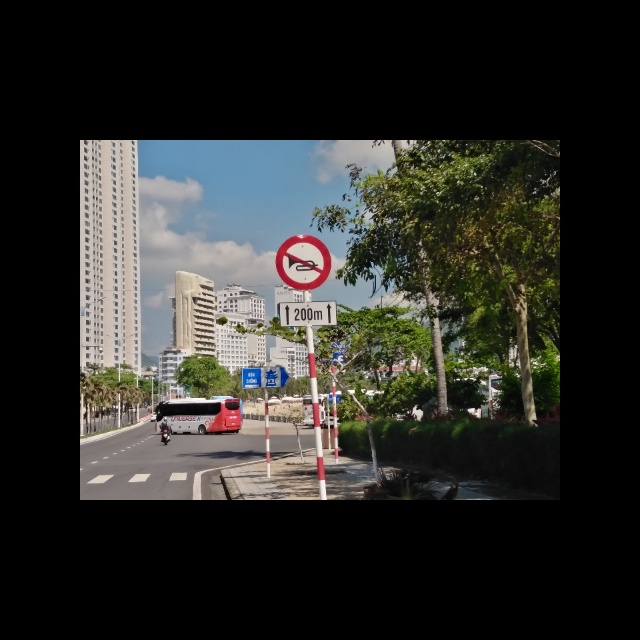Cấm bấm còi: (275, 234, 332, 290)
